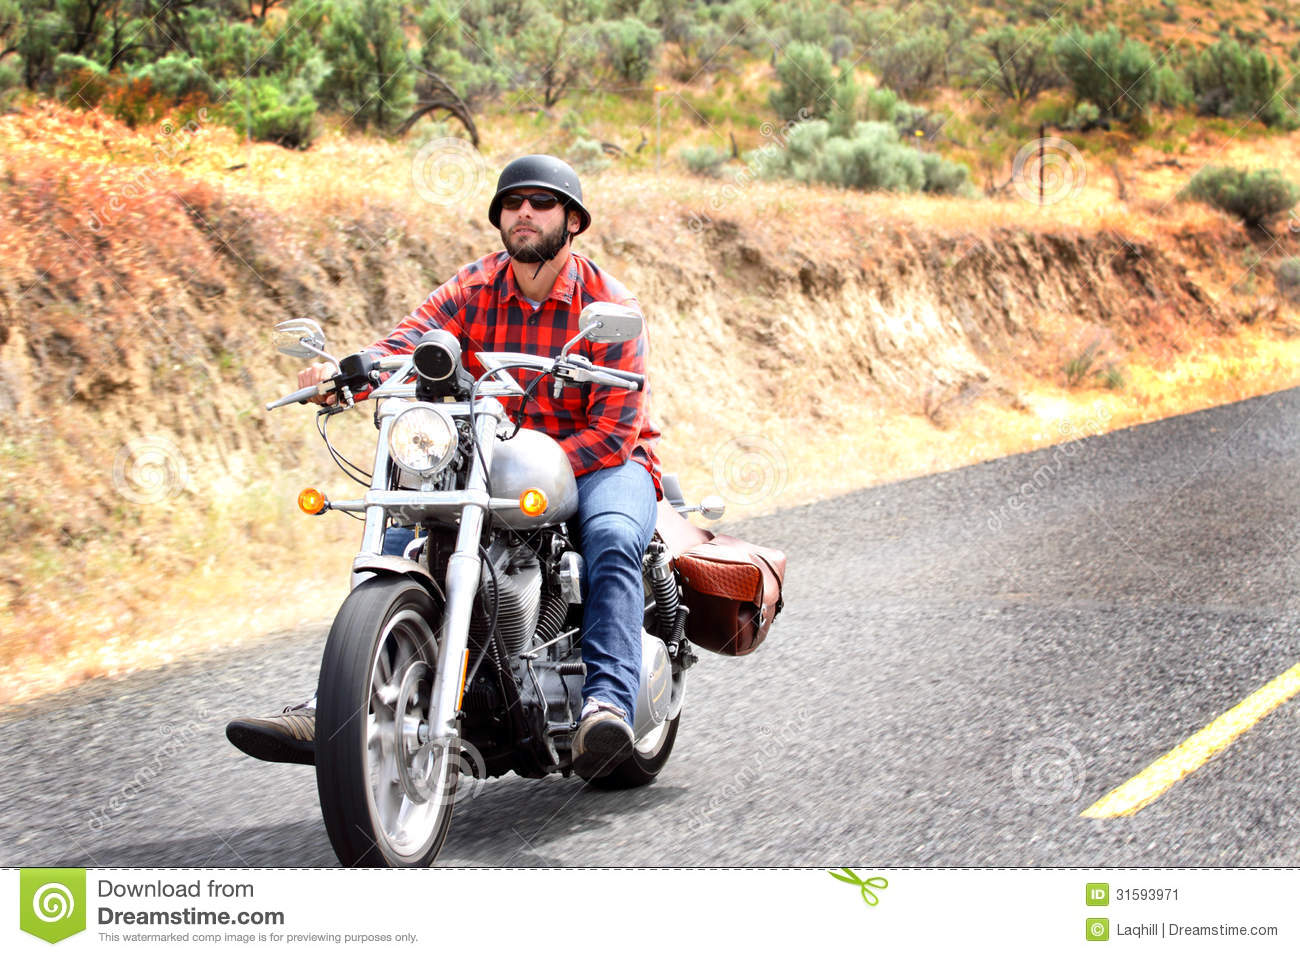with_helmet: (490, 155, 591, 230)
